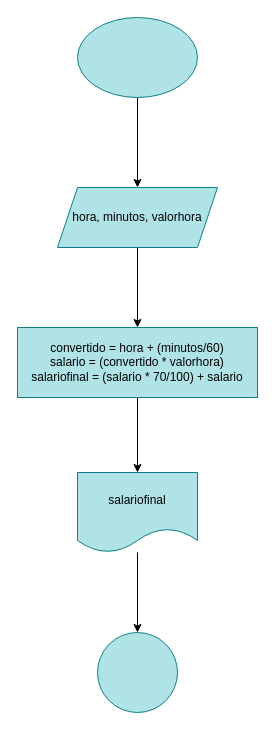
Image size: 275x730. Some labels were removed from this diagram. The centre of each missing label's shape, as x and y in pixels:
"fim" belongs at point (137, 672).
"inicio" belongs at point (137, 57).
